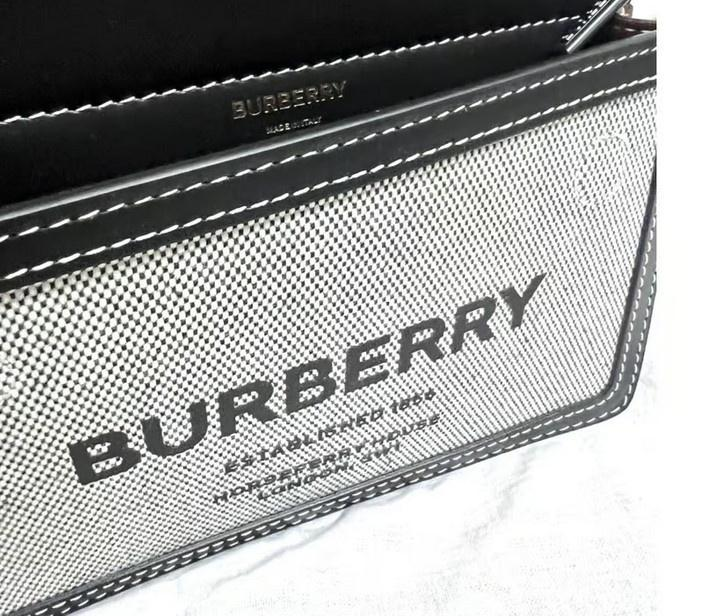BURBERRY: (67, 271, 546, 486), (231, 80, 347, 119)
